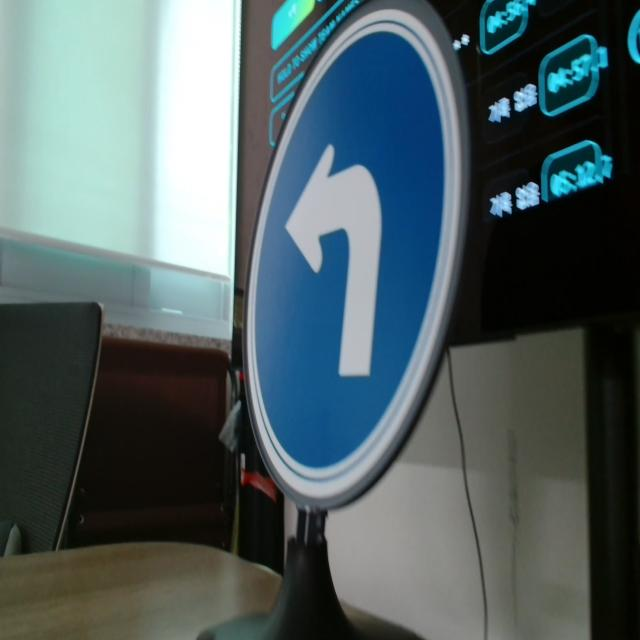left_direction: (227, 0, 489, 522)
